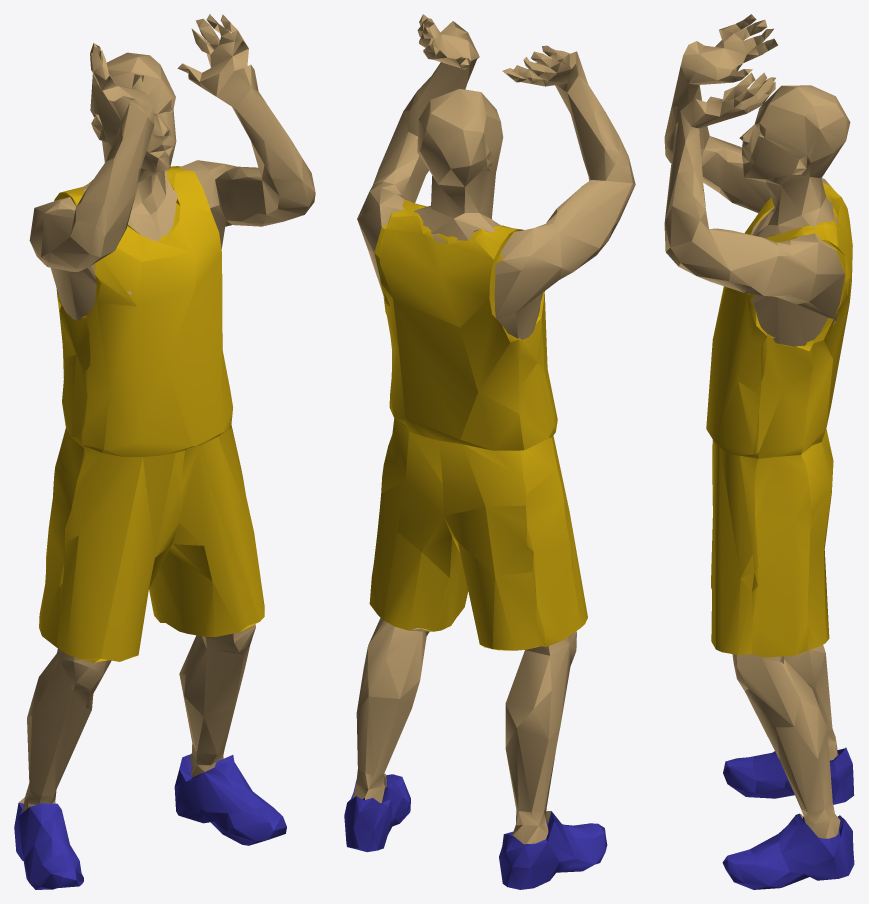
Rendered from shooter.fbx.
3 views of the same model, side by side, from view 1: azimuth 30°, elevation 25°; view 2: azimuth 150°, elevation 25°; view 3: azimuth 270°, elevation 25° (orthographic). The views are drawn at different scales.
Parts seen in each view (by area): view 1: 21511_Basketball_Player_Shooting; view 2: 21511_Basketball_Player_Shooting; view 3: 21511_Basketball_Player_Shooting.
Boxes of the visible parts, x1,y1,x2,y2 form: 21511_Basketball_Player_Shooting: [14, 14, 315, 889]; 21511_Basketball_Player_Shooting: [344, 14, 635, 889]; 21511_Basketball_Player_Shooting: [664, 14, 854, 889].
Bounding box in the file's own units: 3.35 × 10.91 × 2.37.
